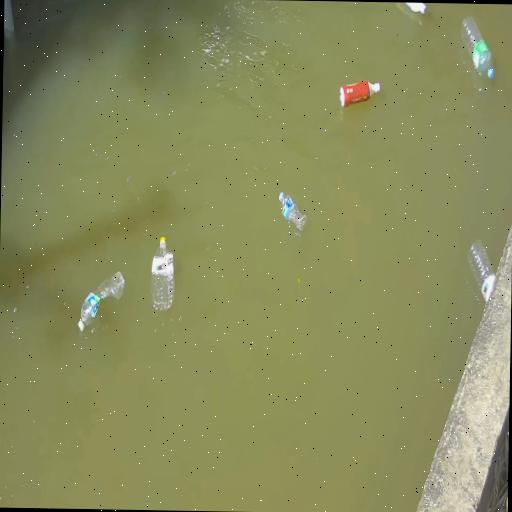plastic: (78, 272, 125, 332), (462, 16, 494, 79), (150, 236, 175, 314), (468, 241, 496, 303), (279, 192, 307, 236), (340, 81, 380, 108), (406, 3, 426, 14)
